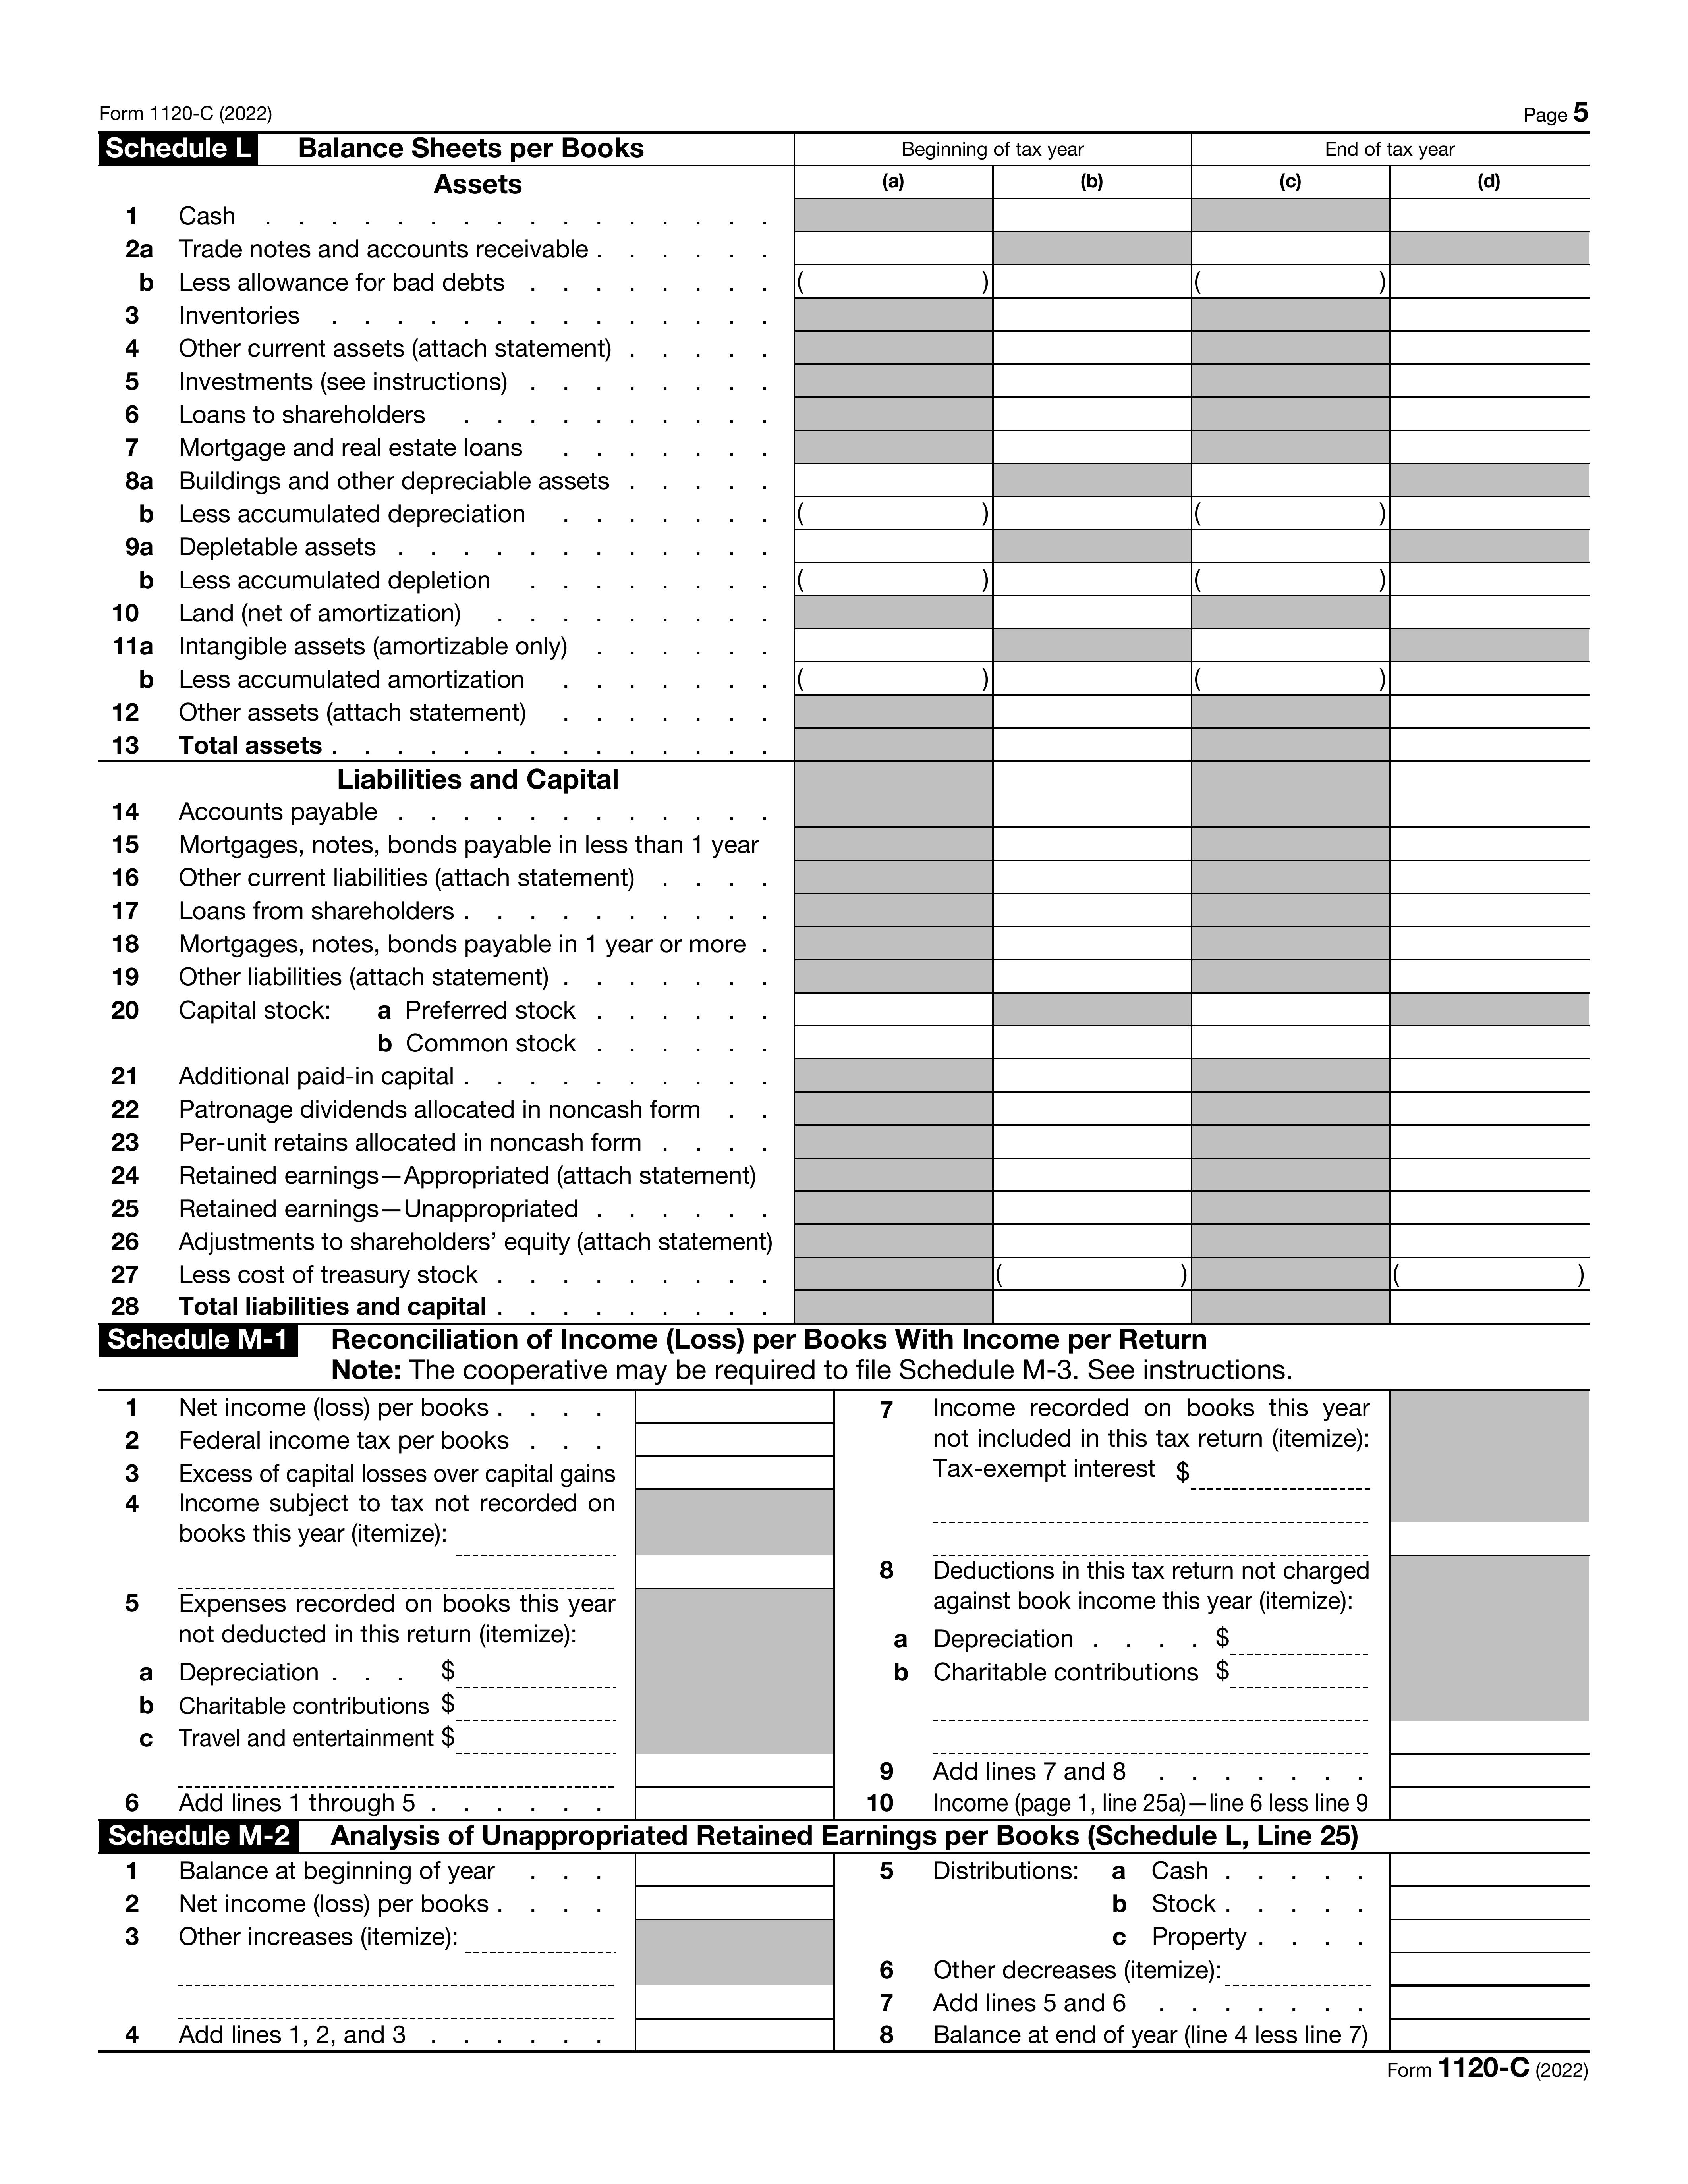table: (85, 128, 1605, 1324), (855, 1383, 1603, 1828), (92, 1381, 848, 1821), (853, 1851, 1603, 2058), (96, 1858, 842, 2058)
